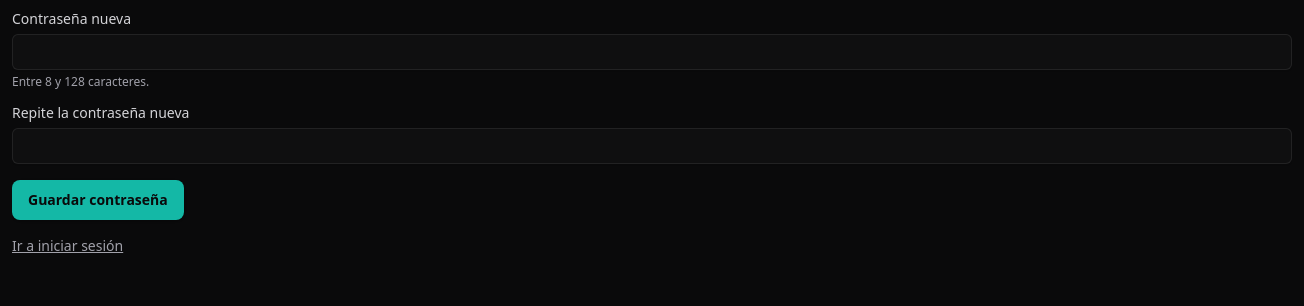
Test case: ResetPasswordForm: con token válido › envía token y ambas contraseñas a la acción
Type "abcdefgh" into the password field labelled "Contraseña nueva".
click(652, 52); type("abcdefgh")  # box 12,34 -> 1292,70
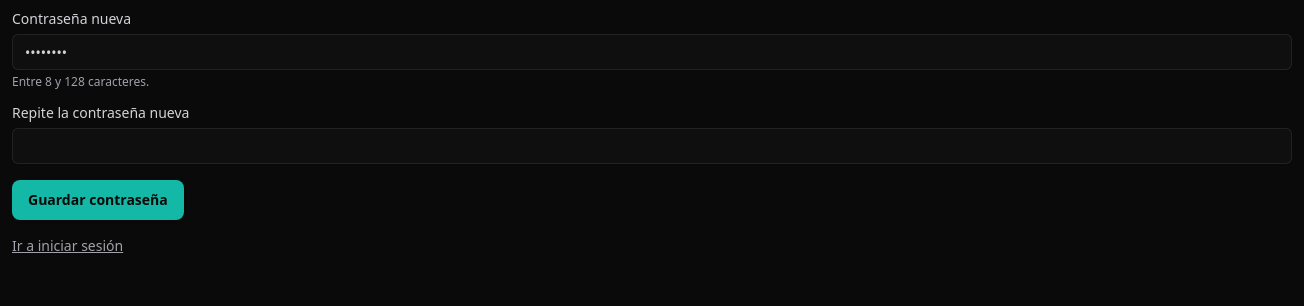
Type "abcdefgi" into the password field labelled "Repite la contraseña nueva".
click(652, 146); type("abcdefgi")  # box 12,128 -> 1292,164
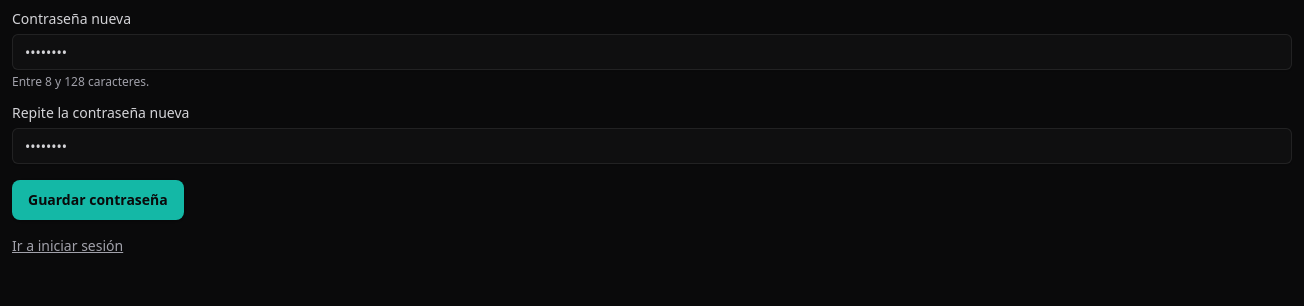
Submit the form
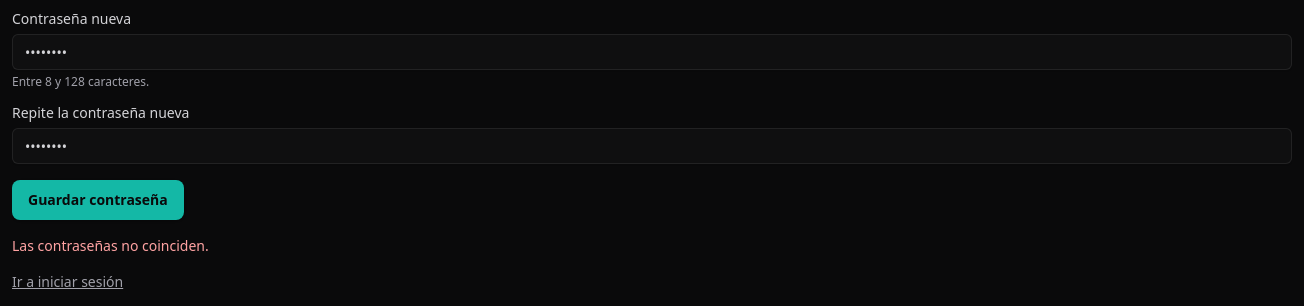
expect the message reads "Las contraseñas no coinciden.": met, box 12,236 -> 209,255
